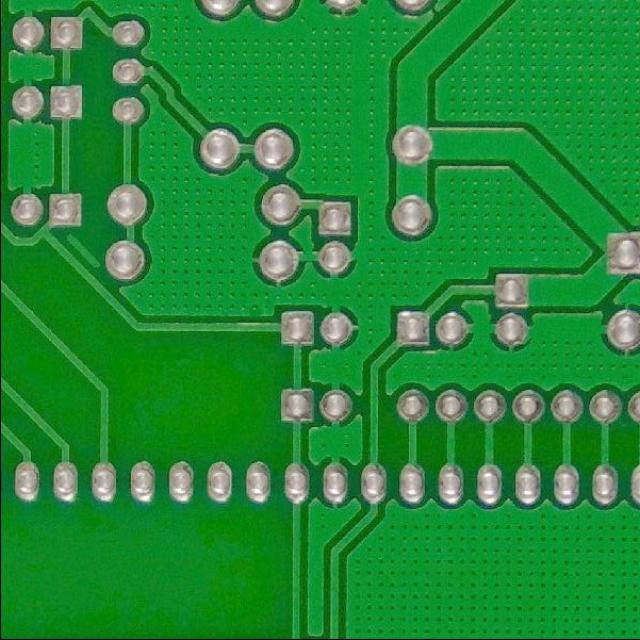Spurious_Cooper: (57, 224, 106, 274)
